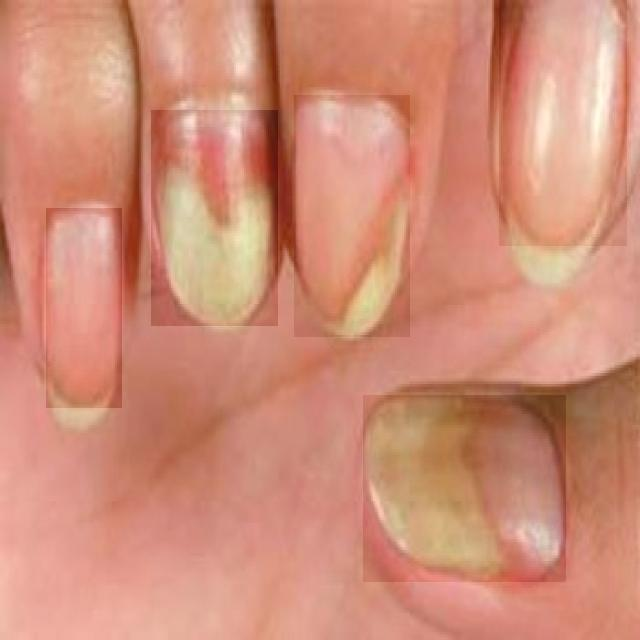diabetes: (364, 395, 566, 582), (500, 0, 627, 246), (294, 95, 410, 337), (152, 110, 278, 326)
sehat: (46, 209, 122, 408)
